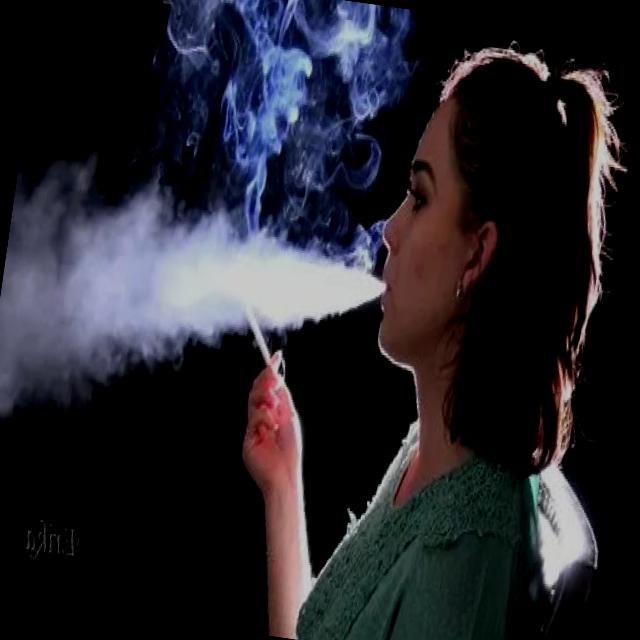cigarette: (230, 290, 292, 379)
